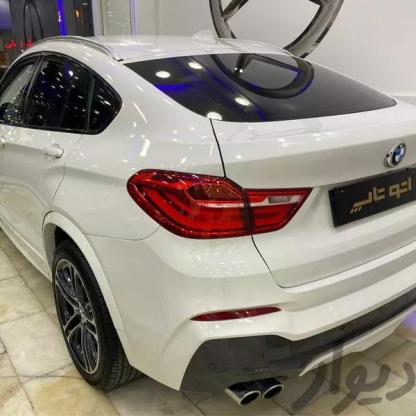Car: (0, 43, 416, 391)
